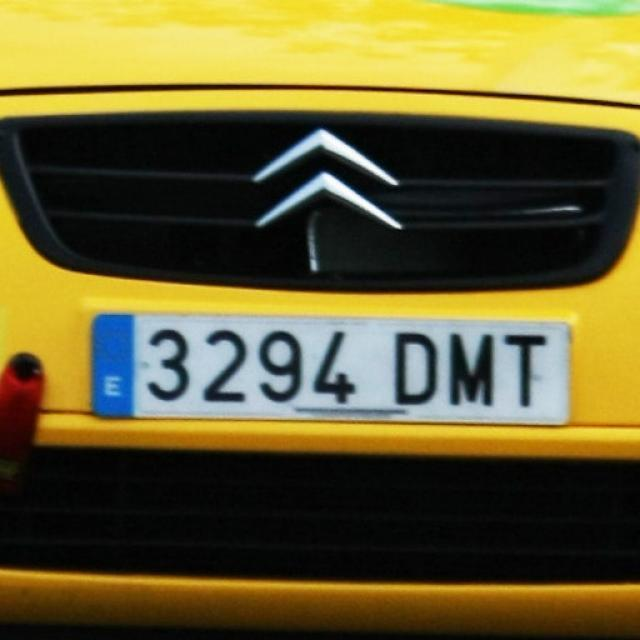LicensePlate: (86, 307, 585, 433)
